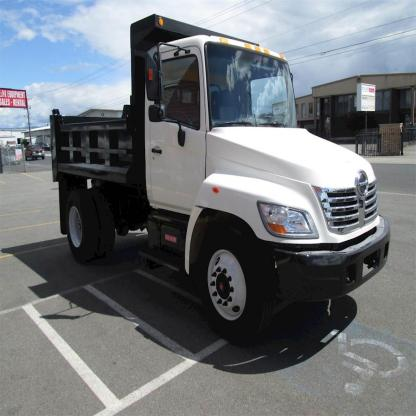dump_truck: (30, 11, 392, 341)
